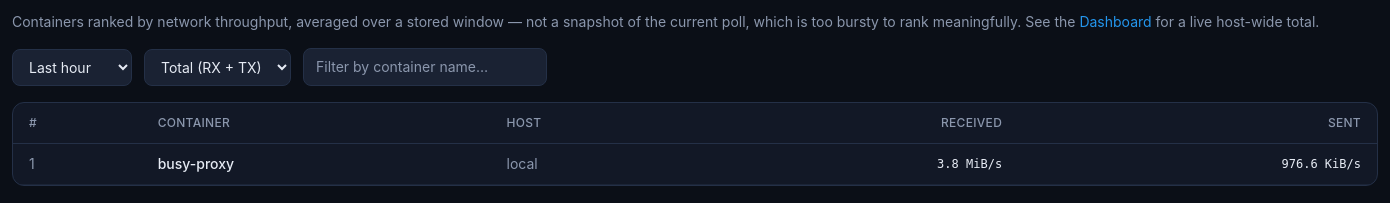
Test: NetworkTab page › shows a 'showing N of total' hint only when the result was actually truncated
Select "Last hour" in the 1st dropdown: coordinates (72, 67) left=12, top=48, right=132, bottom=86
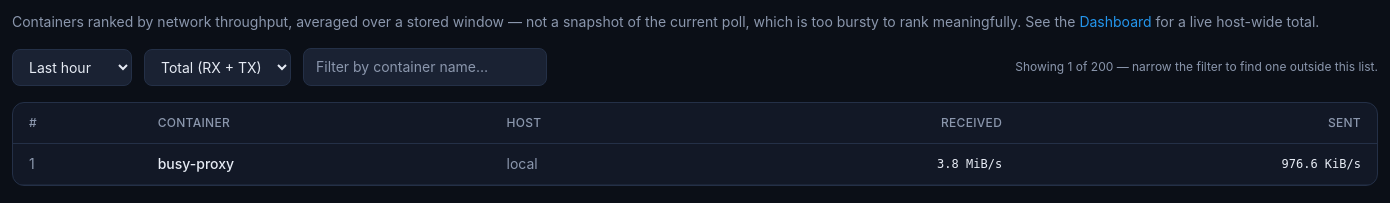
Result: the text "Showing 1 of 200" is shown at left=1015, top=59, right=1378, bottom=75
